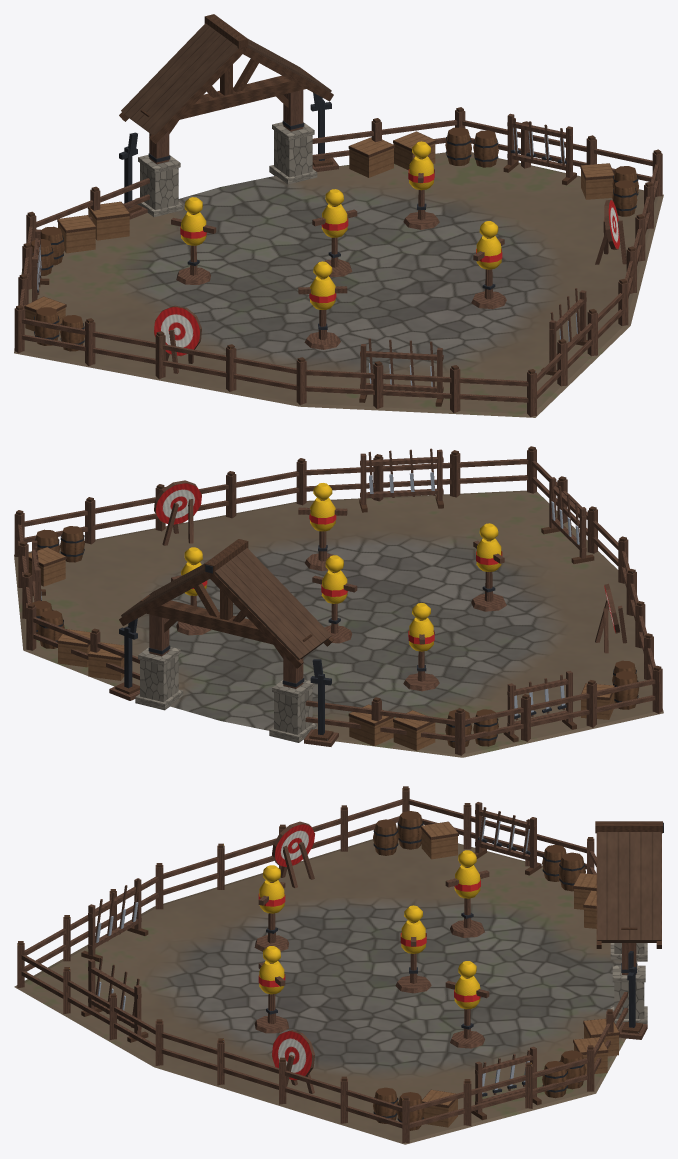
File: TrainingGrounds.fbx
3 views of the same model, one above another, from view 1: azimuth 30°, elevation 25°; view 2: azimuth 150°, elevation 25°; view 3: azimuth 270°, elevation 25° (orthographic).
Parts seen in each view (by area): view 1: Arena_Floor, Training_Props, Perimeter_Fence, Entrance_Archway, Dummy_4_Body, Dummy_2_Body, Dummy_1_Body, Dummy_5_Body, Dummy_3_Body, Dummy_5_Base; view 2: Arena_Floor, Training_Props, Perimeter_Fence, Entrance_Archway, Dummy_5_Body, Dummy_2_Body, Dummy_4_Body, Dummy_1_Body, Dummy_3_Body, Dummy_4_Base, Dummy_1_Base; view 3: Arena_Floor, Training_Props, Perimeter_Fence, Entrance_Archway, Dummy_1_Body, Dummy_3_Body, Dummy_5_Body, Dummy_4_Body, Dummy_2_Body, Dummy_3_Base, Dummy_5_Base, Dummy_1_Base (+1 smaller).
Boxes of the visible parts, <box> form: Arena_Floor: <box>14,152,663,417</box>; Training_Props: <box>24,92,638,406</box>; Perimeter_Fence: <box>14,107,662,417</box>; Entrance_Archway: <box>119,14,333,216</box>; Dummy_4_Body: <box>298,261,347,326</box>; Dummy_2_Body: <box>312,189,357,254</box>; Dummy_1_Body: <box>171,197,216,262</box>; Dummy_5_Body: <box>473,221,504,286</box>; Dummy_3_Body: <box>408,141,434,206</box>; Dummy_5_Base: <box>471,284,506,309</box>; Arena_Floor: <box>14,490,663,757</box>; Training_Props: <box>28,448,638,750</box>; Perimeter_Fence: <box>14,446,662,755</box>; Entrance_Archway: <box>119,539,333,742</box>; Dummy_5_Body: <box>298,483,347,548</box>; Dummy_2_Body: <box>312,555,357,620</box>; Dummy_4_Body: <box>473,523,504,588</box>; Dummy_1_Body: <box>408,603,434,668</box>; Dummy_3_Body: <box>171,547,207,606</box>; Dummy_4_Base: <box>471,586,506,611</box>; Dummy_1_Base: <box>403,665,439,691</box>; Arena_Floor: <box>14,839,637,1144</box>; Training_Props: <box>81,802,647,1130</box>; Perimeter_Fence: <box>17,786,627,1143</box>; Entrance_Archway: <box>595,821,663,1025</box>; Dummy_1_Body: <box>445,850,489,915</box>; Dummy_3_Body: <box>445,961,489,1025</box>; Dummy_5_Body: <box>258,946,285,1010</box>; Dummy_4_Body: <box>258,865,285,930</box>; Dummy_2_Body: <box>400,905,426,970</box>; Dummy_3_Base: <box>450,1023,484,1048</box>; Dummy_5_Base: <box>254,1008,288,1033</box>; Dummy_1_Base: <box>450,912,484,937</box>.
Bounding box in the file's own units: 48.5 × 11.71 × 42.21.
2 materials, 2 textured.
